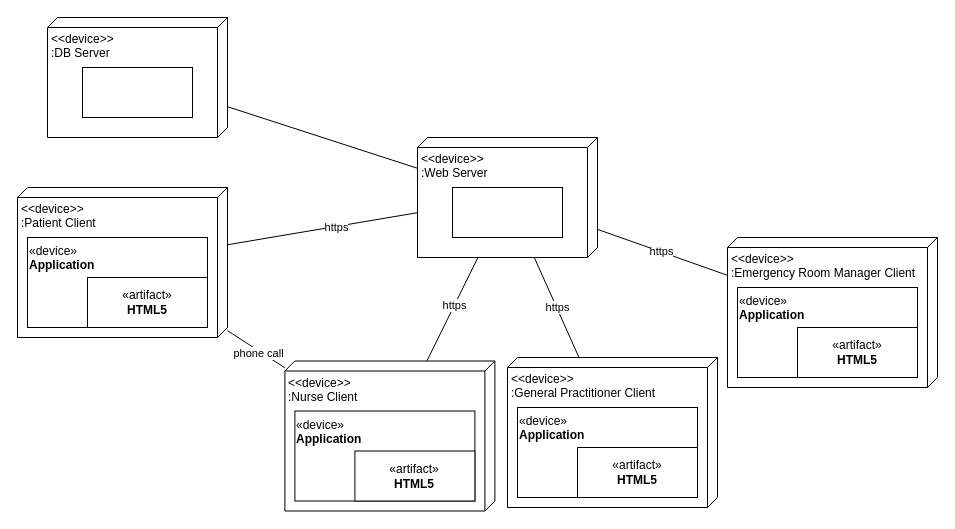
The diagram is 955 pixels wide and 529 high, and some of its shapes have lost their labels. The shapes that lost their labels are listed below. From the top down, each one's centre as x and y in pixels, then its label:
At (x=137, y=92): "«artifact» CSV File".
At (x=507, y=212): "«artifact» Website".
